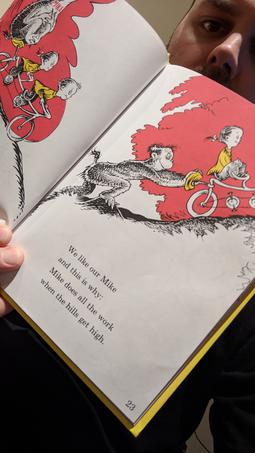text block: (27, 241, 125, 347)
